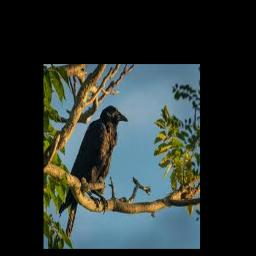Crow: (59, 105, 128, 237)
